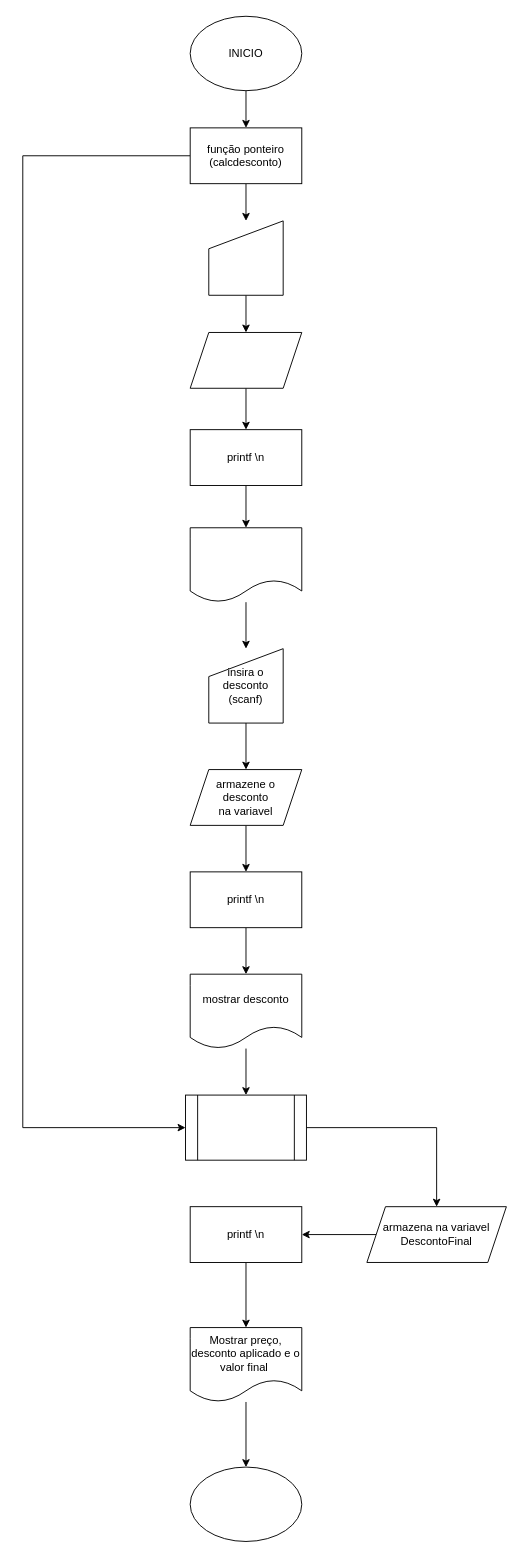
Some shapes in this 523 by 1558 pixel diagram are drawn without their labels. The centre of each missing label's shape, as x and y in pixels:
armazene o preço na variavel: point 245,360
Chaama a função "caldesconto" e ele usa as novas variaveis: point 245,1127
FINAL: point 245,1503
insira o preço (scanf): point 245,257
mostrar valor do preço: point 245,564
